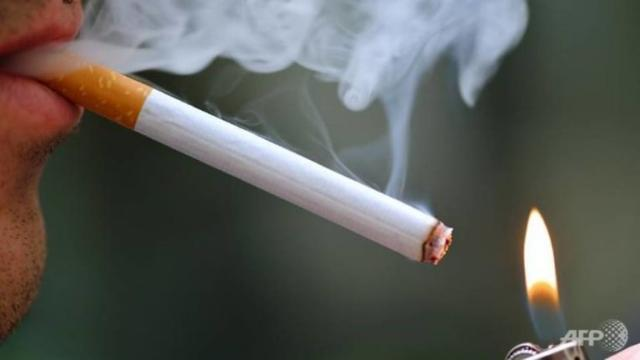Smoking: (9, 38, 454, 266)
